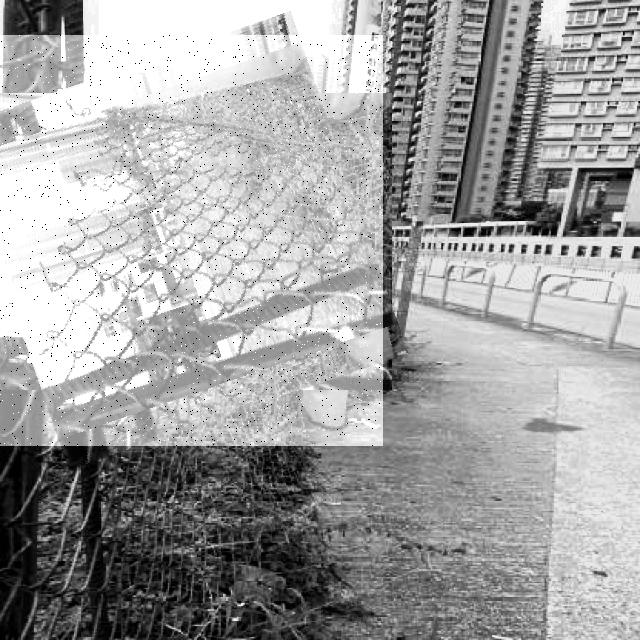anomaly-fence: (0, 35, 383, 446)
